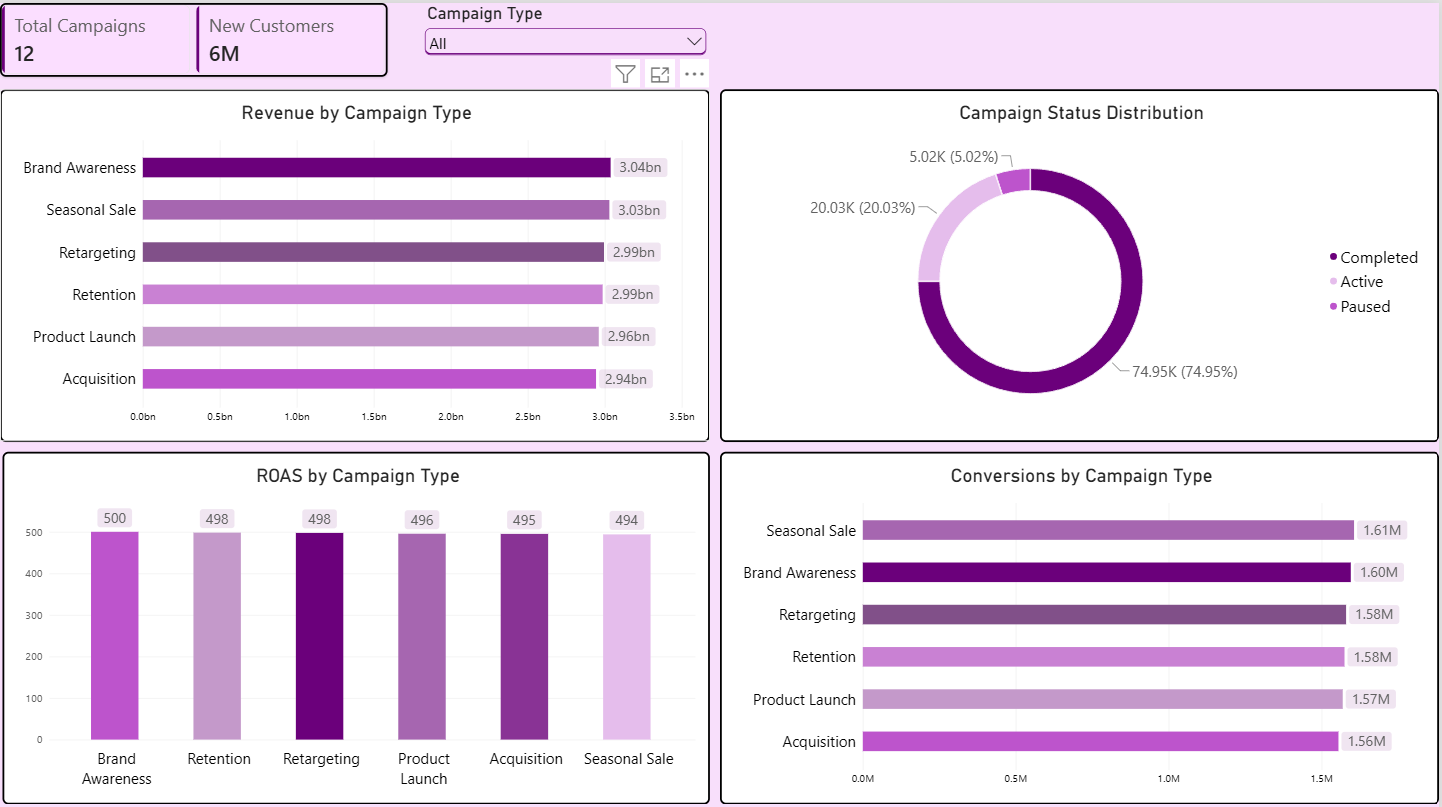

What the dashboard file says about the page in this screenshot:
{"tool":"powerbi","page":{"name":"Campaign Performance","canvas":[1920,1080],"ordinal":2},"visuals":[{"type":"cardVisual","fields":{"Data":["Count(public marketing_cleaned.campaign_name)","Sum(public marketing_cleaned.new_customers)"]},"box":[0,0,516.7,98.3],"z":0},{"type":"clusteredBarChart","title":"Revenue by Campaign Type","fields":{"Category":["public marketing_cleaned.campaign_type"],"Y":["Sum(public marketing_cleaned.revenue)"]},"box":[0,115,946.7,470],"z":1000},{"type":"clusteredColumnChart","title":"ROAS by Campaign Type","fields":{"Category":["public marketing_cleaned.campaign_type"],"Y":["public marketing_cleaned.ROAS"]},"box":[3.3,598.3,943.3,470],"z":2000},{"type":"donutChart","title":"Campaign Status Distribution","fields":{"Category":["public marketing_cleaned.campaign_status"],"Y":["CountNonNull(public marketing_cleaned.campaign_record_id)"]},"box":[960,115,960,470],"z":3000},{"type":"clusteredBarChart","title":"Conversions by Campaign Type","fields":{"Category":["public marketing_cleaned.campaign_type"],"Y":["Sum(public marketing_cleaned.conversions)"]},"box":[960,598.3,960,470],"z":4000},{"type":"slicer","fields":{"Values":["public marketing_cleaned.campaign_type"]},"box":[561.7,0,385,98.3],"z":5000}]}

Visuals, with their boxes in screenshot pixels (x1, y1, x2, y2), scaled from the page's 1920x1080 canvas onto the 1442x807 screenshot:
cardVisual - Count(public marketing_cleaned.campaign_name) x Sum(public marketing_cleaned.new_customers): [0, 0, 388, 73]
"Revenue by Campaign Type" clusteredBarChart: [0, 86, 711, 437]
"ROAS by Campaign Type" clusteredColumnChart: [2, 447, 711, 798]
"Campaign Status Distribution" donutChart: [721, 86, 1441, 437]
"Conversions by Campaign Type" clusteredBarChart: [721, 447, 1441, 798]
slicer - public marketing_cleaned.campaign_type: [422, 0, 711, 73]
